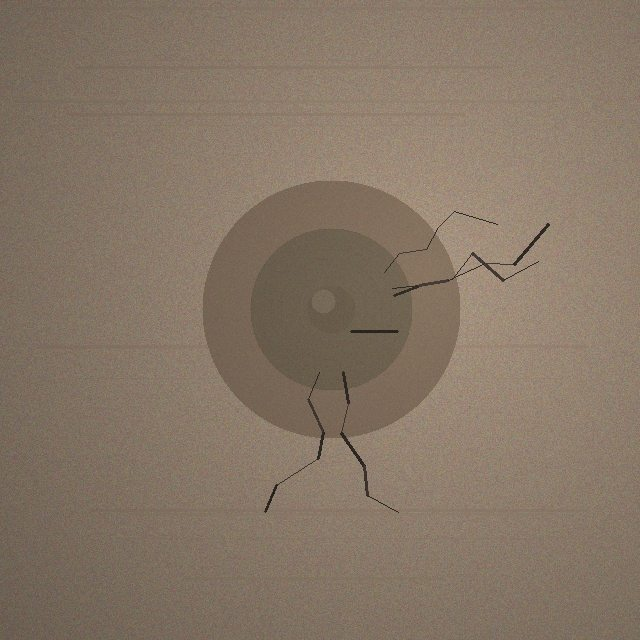crack: (202, 180, 460, 438)
